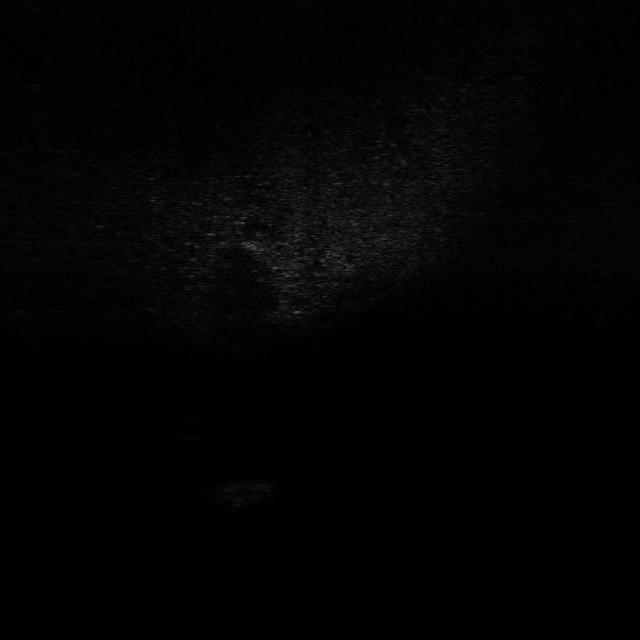ball: (173, 410, 212, 445)
circle cage: (204, 475, 286, 512)
